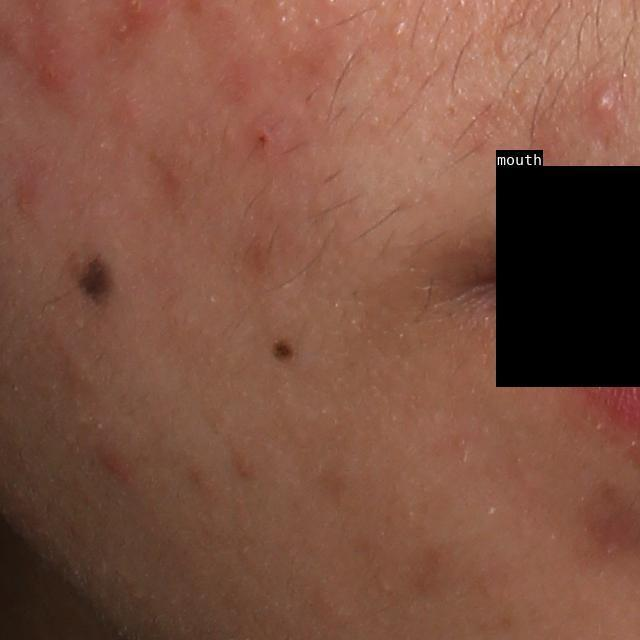comedo: (389, 22, 407, 43)
nevus: (76, 248, 115, 314), (270, 338, 297, 365)
papule: (34, 47, 66, 91), (96, 444, 131, 478)
